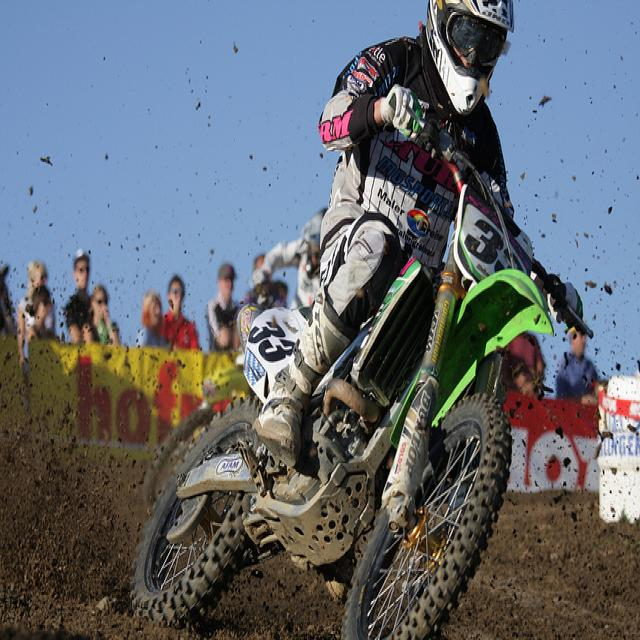motor: (133, 121, 592, 631)
